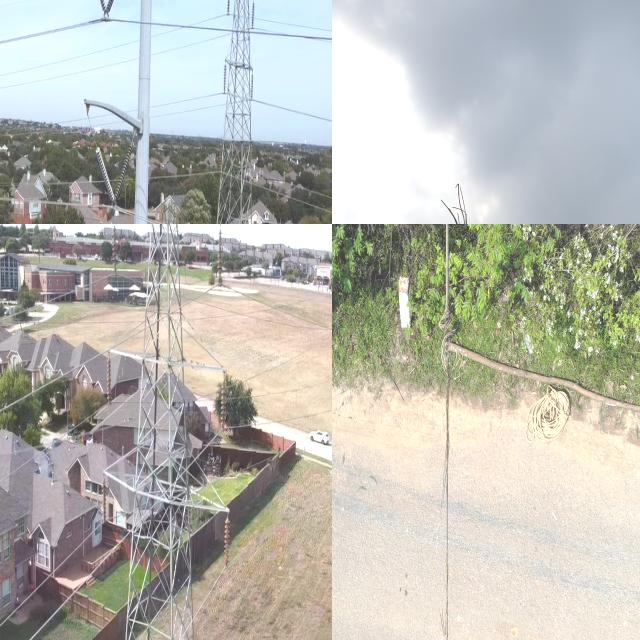杆塔: (98, 224, 236, 640), (191, 0, 265, 224)
正常绝缘子: (104, 133, 141, 224), (89, 126, 124, 222), (215, 363, 232, 440), (217, 505, 233, 584), (213, 224, 227, 295), (99, 471, 112, 540), (107, 224, 121, 288), (104, 345, 115, 412), (98, 0, 117, 29), (97, 0, 112, 25), (248, 0, 256, 35), (222, 60, 230, 95), (250, 66, 256, 101), (224, 0, 231, 17)
电缆破损: (427, 313, 459, 640)
